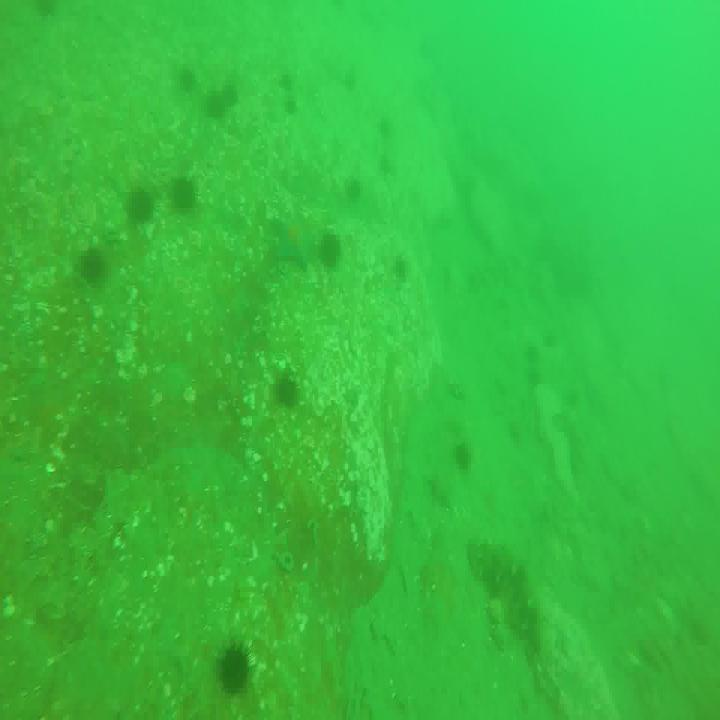echinus: (219, 643, 252, 698), (126, 184, 158, 227), (275, 367, 304, 411), (82, 244, 108, 283), (318, 228, 341, 270), (172, 177, 197, 215), (206, 80, 222, 123), (178, 64, 200, 92), (222, 82, 242, 112), (393, 254, 414, 281), (344, 174, 360, 206), (452, 440, 469, 470)
holothurian: (468, 538, 541, 646)
starfish: (274, 213, 316, 272)
